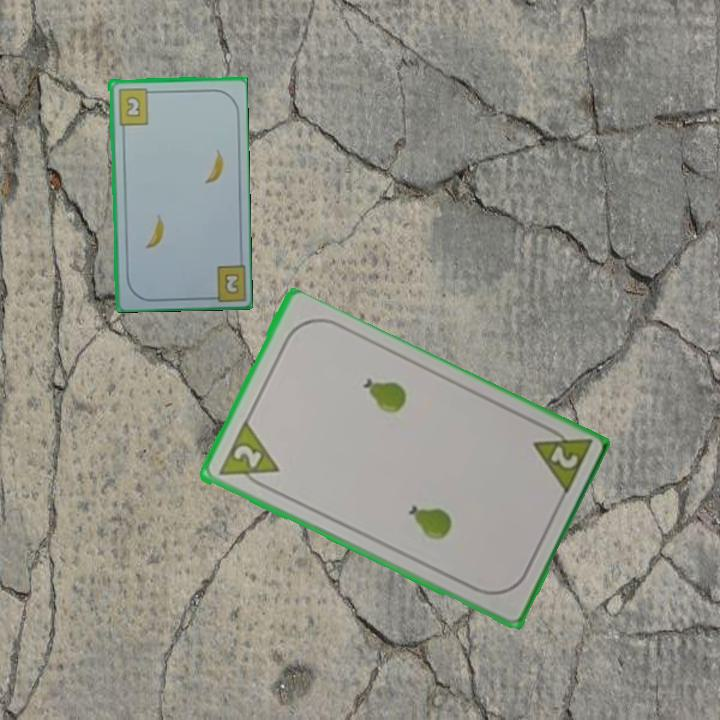2b: (202, 259, 247, 302), (114, 85, 156, 127)
2p: (528, 419, 594, 499), (229, 441, 264, 471)
